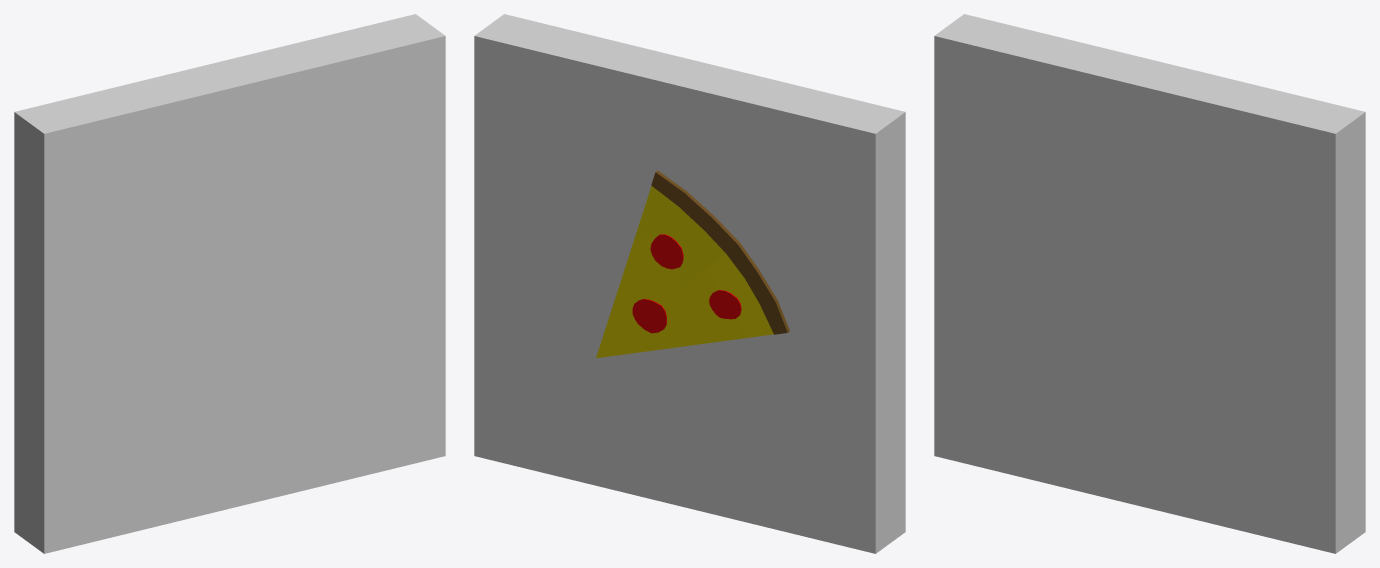
Rendered from pizzadrop.fbx.
3 views of the same model, side by side, from view 1: azimuth 30°, elevation 25°; view 2: azimuth 150°, elevation 25°; view 3: azimuth 330°, elevation 25° (orthographic).
Parts seen in each view (by area): view 1: Plane; view 2: Plane; view 3: Plane.
Boxes of the visible parts, box(x1,y1,x2,y2) form: Plane: box(14, 14, 445, 553); Plane: box(474, 14, 905, 553); Plane: box(934, 14, 1365, 553).
Bounding box in the file's own units: 200 × 200 × 28.25.
